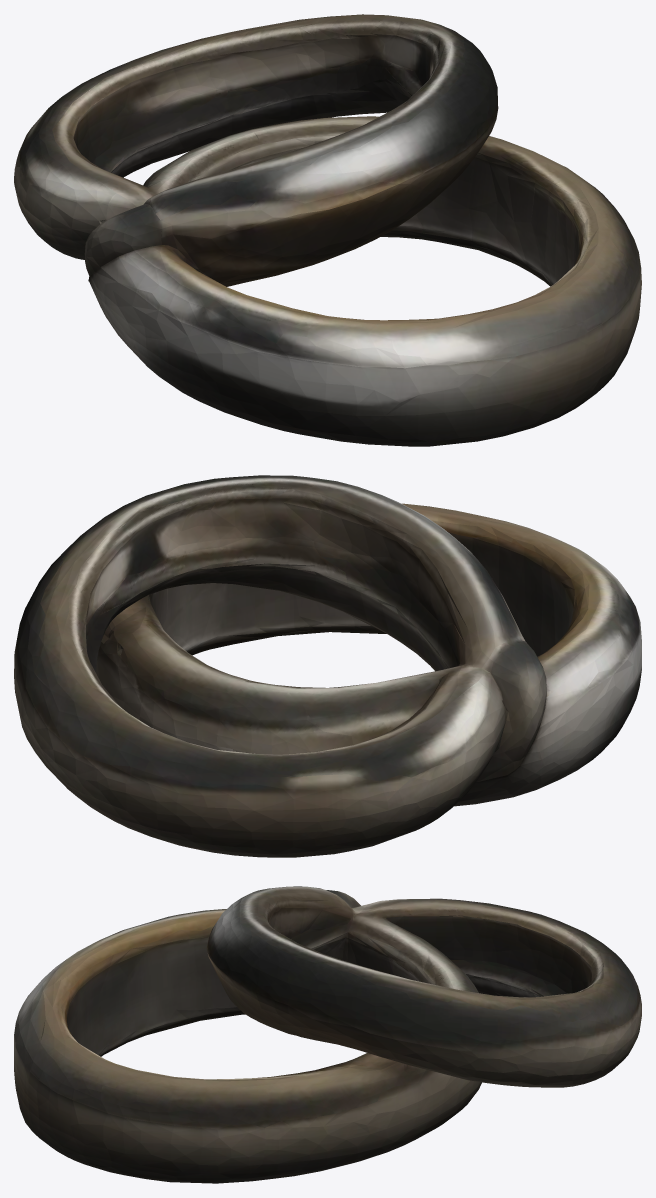
Rendered from ring.glb.
3 views of the same model, one above another, from view 1: azimuth 30°, elevation 25°; view 2: azimuth 150°, elevation 25°; view 3: azimuth 270°, elevation 25° (orthographic). The views are drawn at different scales.
Visible parts, largest first — view 1: world; view 2: world; view 3: world.
Part boxes in pixels (x1,y1,x2,y2): world: (14,14,641,446); world: (14,475,641,857); world: (14,886,641,1183).
Bounding box in the file's own units: 0.7447 × 0.361 × 0.9981.
1 material, 1 textured.
